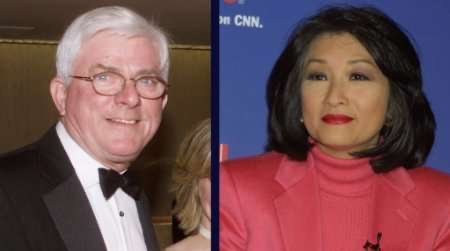Face: (70, 54, 166, 166), (293, 41, 390, 147)
